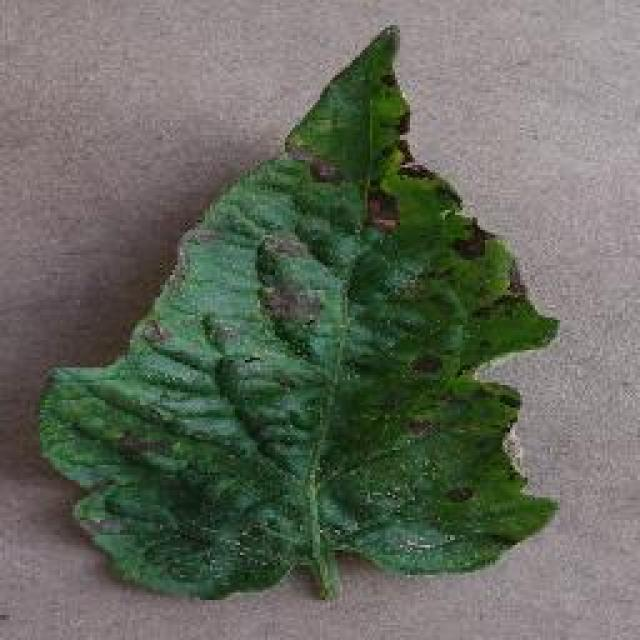Tomato Early blight leaf: (93, 28, 555, 602)
